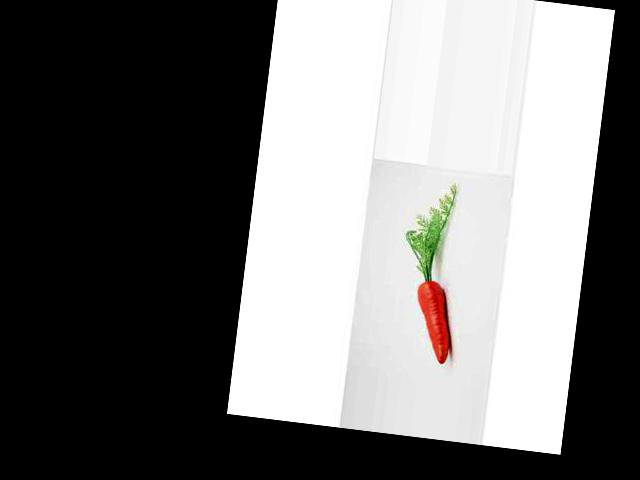carrot: (405, 276, 467, 375)
